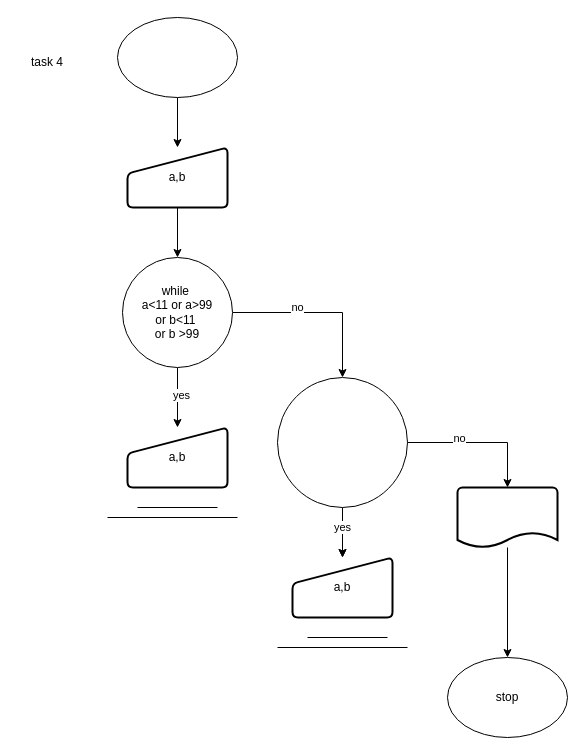
This 585x755 diagram has some shape labels left out. The shapes that lost their labels are listed below. From the top down, each one's box as (x1, y1, x2, y2) in pixels, then its label:
(116, 16, 238, 98): start
(276, 376, 408, 508): while a%10 != b\\10 or a\\10 != b%10
(456, 486, 558, 548): "good" a "is the opposite of" b
